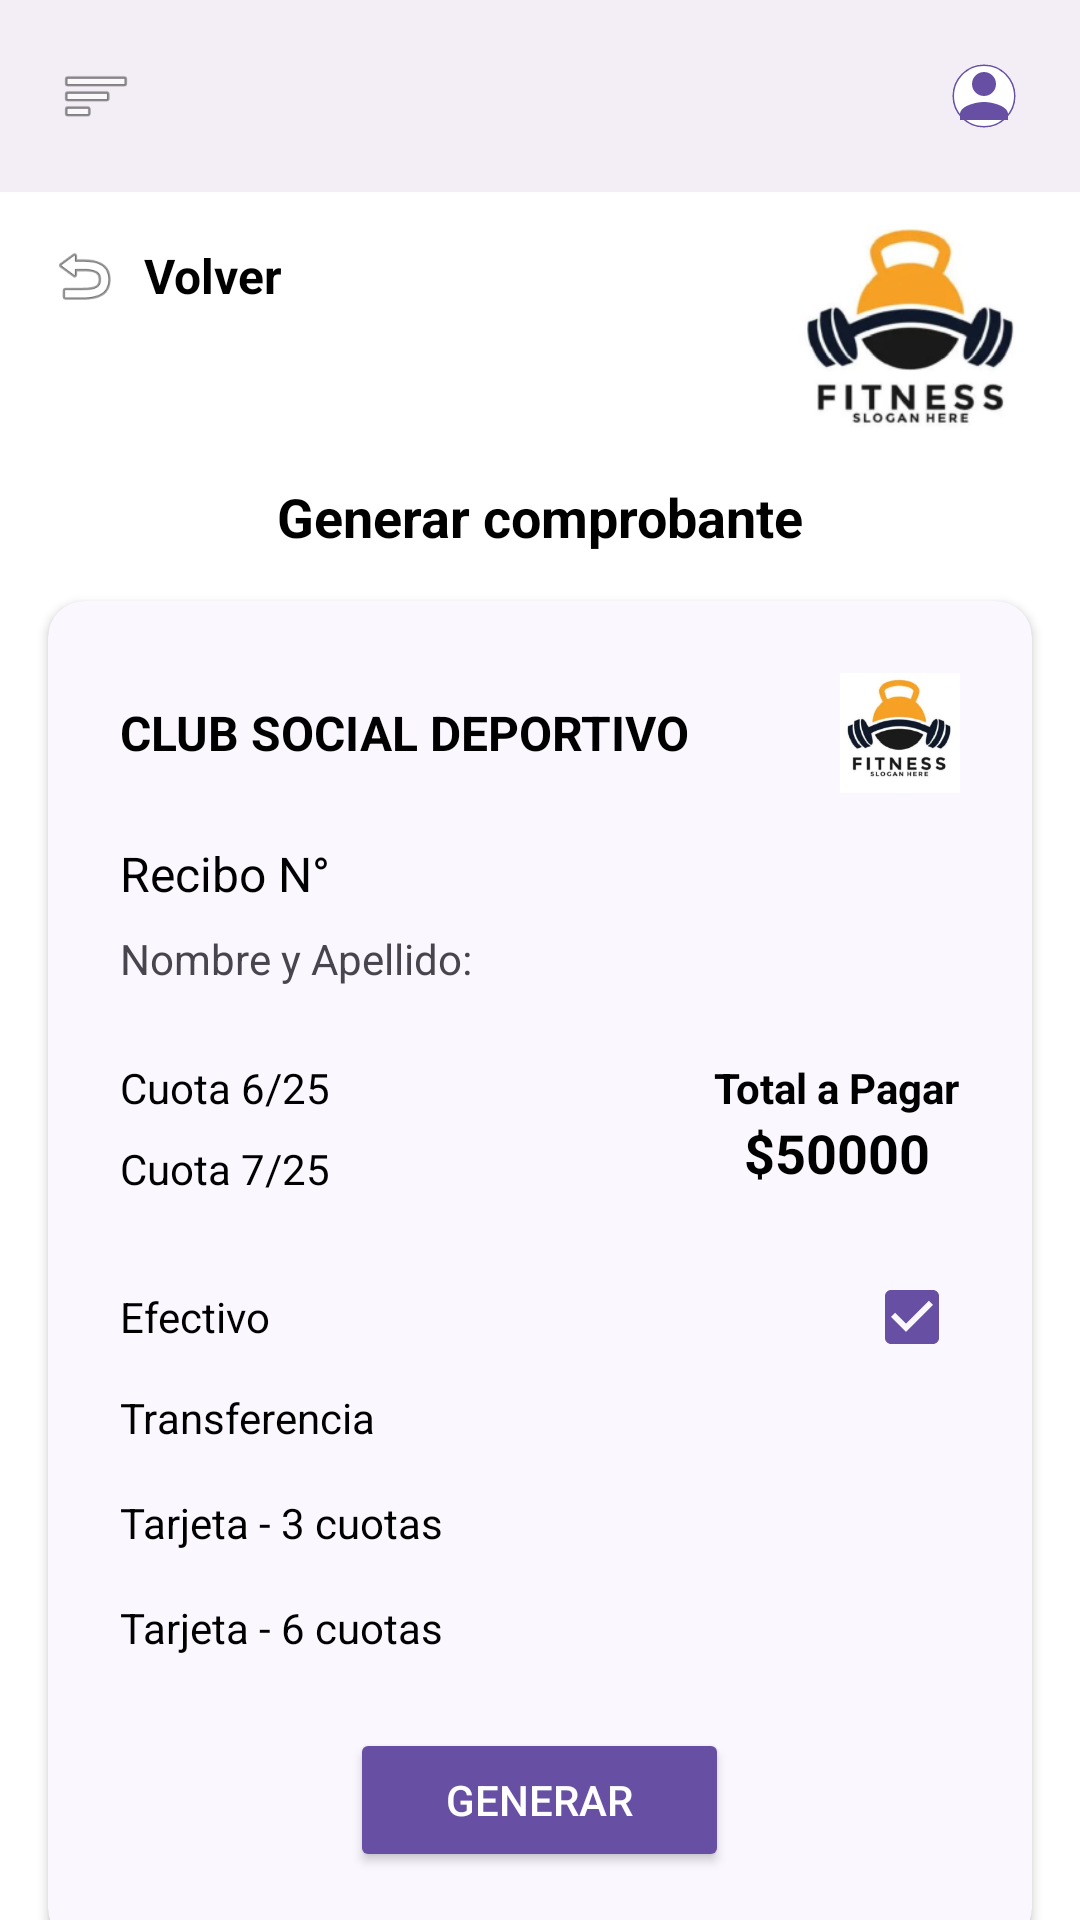

Icon click points for this 1080 × 1920 phone screenshot, format point (x, y):
revert: point (85, 276)
sort by size: point (96, 96)
